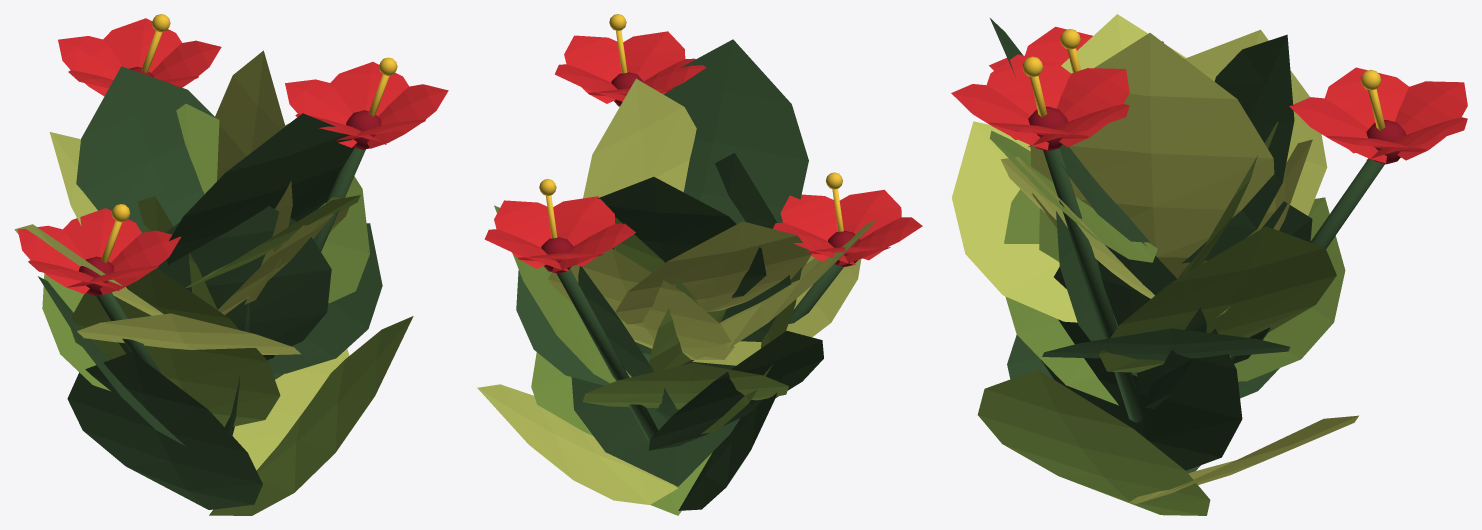
The model's file is hibiscus.glb.
3 views of the same model, side by side, from view 1: azimuth 30°, elevation 25°; view 2: azimuth 150°, elevation 25°; view 3: azimuth 270°, elevation 25° (orthographic). The views are drawn at different scales.
Visible parts, largest first — view 1: main__hibiscus_leaf_dark_flat, main__hibiscus_leaf_flat, main__hibiscus_petal_flat, main__hibiscus_leaf_light_flat, main__hibiscus_leaf_dark, main__hibiscus_stamen, main__hibiscus_throat; view 2: main__hibiscus_leaf_dark_flat, main__hibiscus_leaf_light_flat, main__hibiscus_petal_flat, main__hibiscus_leaf_flat, main__hibiscus_leaf_dark, main__hibiscus_stamen, main__hibiscus_throat; view 3: main__hibiscus_leaf_light_flat, main__hibiscus_leaf_flat, main__hibiscus_leaf_dark_flat, main__hibiscus_petal_flat, main__hibiscus_leaf_dark, main__hibiscus_stamen, main__hibiscus_throat.
Boxes of the visible parts, x1=… form: main__hibiscus_leaf_dark_flat: x1=38, y1=66, x2=382, y2=509; main__hibiscus_leaf_flat: x1=42, y1=103, x2=413, y2=515; main__hibiscus_petal_flat: x1=18, y1=18, x2=448, y2=294; main__hibiscus_leaf_light_flat: x1=14, y1=50, x2=349, y2=470; main__hibiscus_leaf_dark: x1=96, y1=148, x2=365, y2=373; main__hibiscus_stamen: x1=101, y1=14, x2=397, y2=262; main__hibiscus_throat: x1=79, y1=66, x2=381, y2=296; main__hibiscus_leaf_dark_flat: x1=516, y1=39, x2=823, y2=510; main__hibiscus_leaf_light_flat: x1=477, y1=78, x2=876, y2=504; main__hibiscus_petal_flat: x1=484, y1=31, x2=922, y2=272; main__hibiscus_leaf_flat: x1=494, y1=205, x2=801, y2=515; main__hibiscus_leaf_dark: x1=556, y1=264, x2=843, y2=440; main__hibiscus_stamen: x1=539, y1=14, x2=843, y2=238; main__hibiscus_throat: x1=541, y1=72, x2=860, y2=273; main__hibiscus_leaf_light_flat: x1=952, y1=14, x2=1358, y2=503; main__hibiscus_leaf_flat: x1=977, y1=122, x2=1345, y2=515; main__hibiscus_leaf_dark_flat: x1=990, y1=18, x2=1312, y2=473; main__hibiscus_petal_flat: x1=951, y1=26, x2=1467, y2=163; main__hibiscus_leaf_dark: x1=1043, y1=148, x2=1384, y2=422; main__hibiscus_stamen: x1=1022, y1=29, x2=1385, y2=130; main__hibiscus_throat: x1=1028, y1=106, x2=1405, y2=164.
Bounding box in the file's own units: 0.675 × 0.77 × 0.6879.
